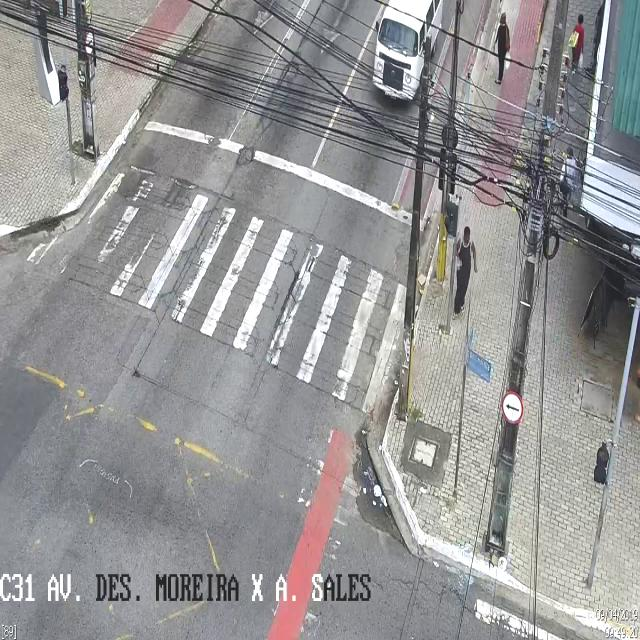Car: (374, 0, 449, 115)
